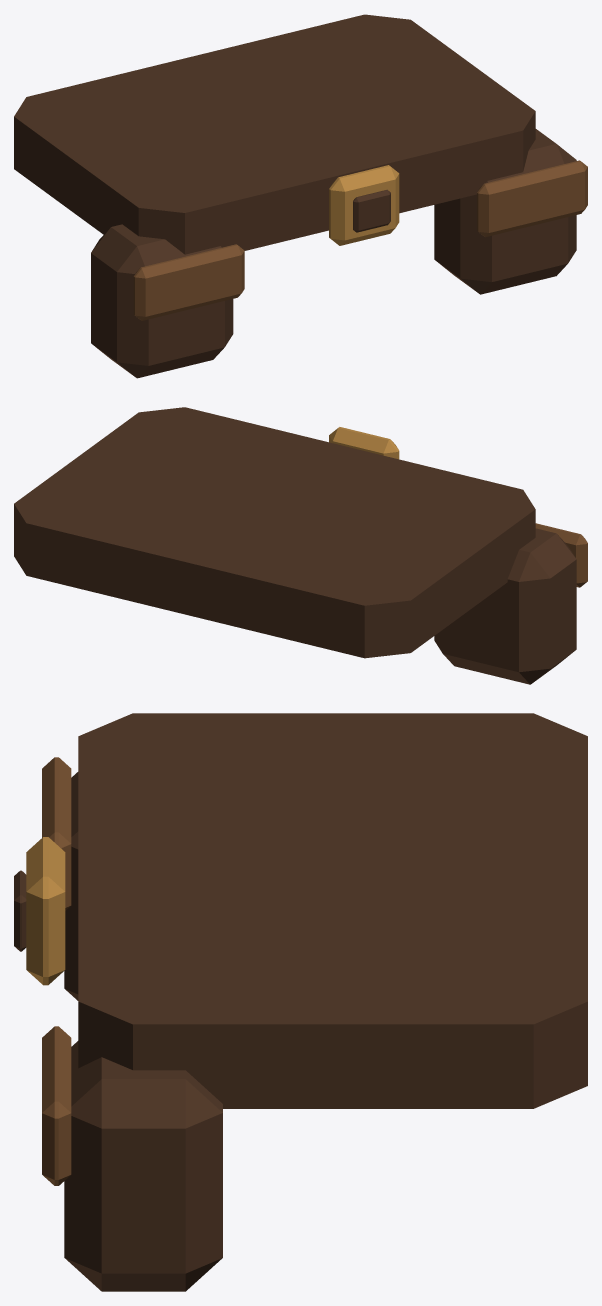
Rendered from SM_NPC_Belt_02_Pouches.glb.
3 renders of one model, top to bottom at view 1: azimuth 30°, elevation 25°; view 2: azimuth 150°, elevation 25°; view 3: azimuth 270°, elevation 25°, orthographic. The views are drawn at different scales.
Parts seen in each view (by area): view 1: SM_NPC_Belt_02_Pouches; view 2: SM_NPC_Belt_02_Pouches; view 3: SM_NPC_Belt_02_Pouches.
Part boxes in pixels (left/top/right/bottom): SM_NPC_Belt_02_Pouches: left=14, top=14, right=587, bottom=378; SM_NPC_Belt_02_Pouches: left=14, top=407, right=587, bottom=684; SM_NPC_Belt_02_Pouches: left=14, top=713, right=587, bottom=1291.
Bounding box in the file's own units: 0.549 × 0.192 × 0.3695.
